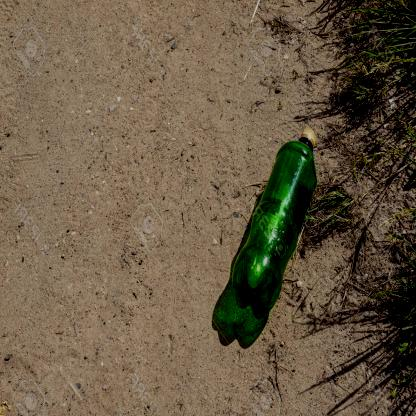bottle: (222, 120, 330, 336)
